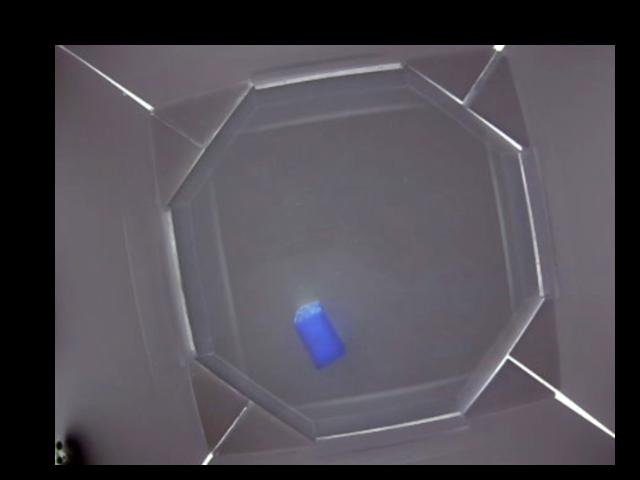Potato: (294, 300, 344, 367)
